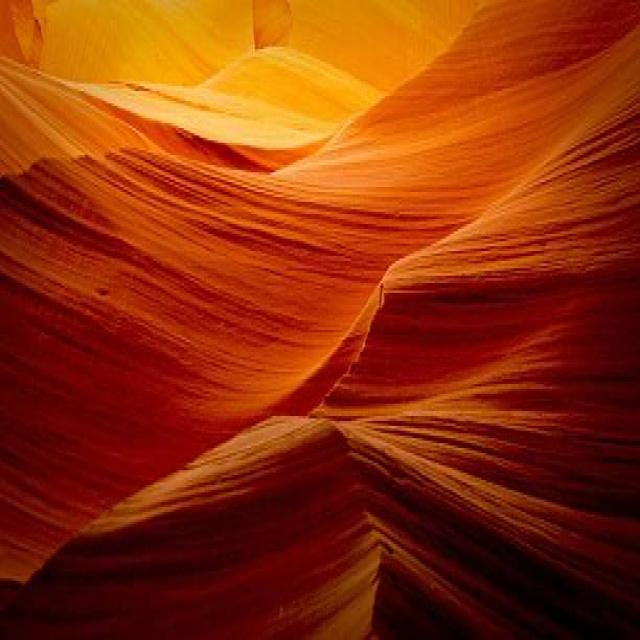Sedimentary: (1, 2, 640, 638)
